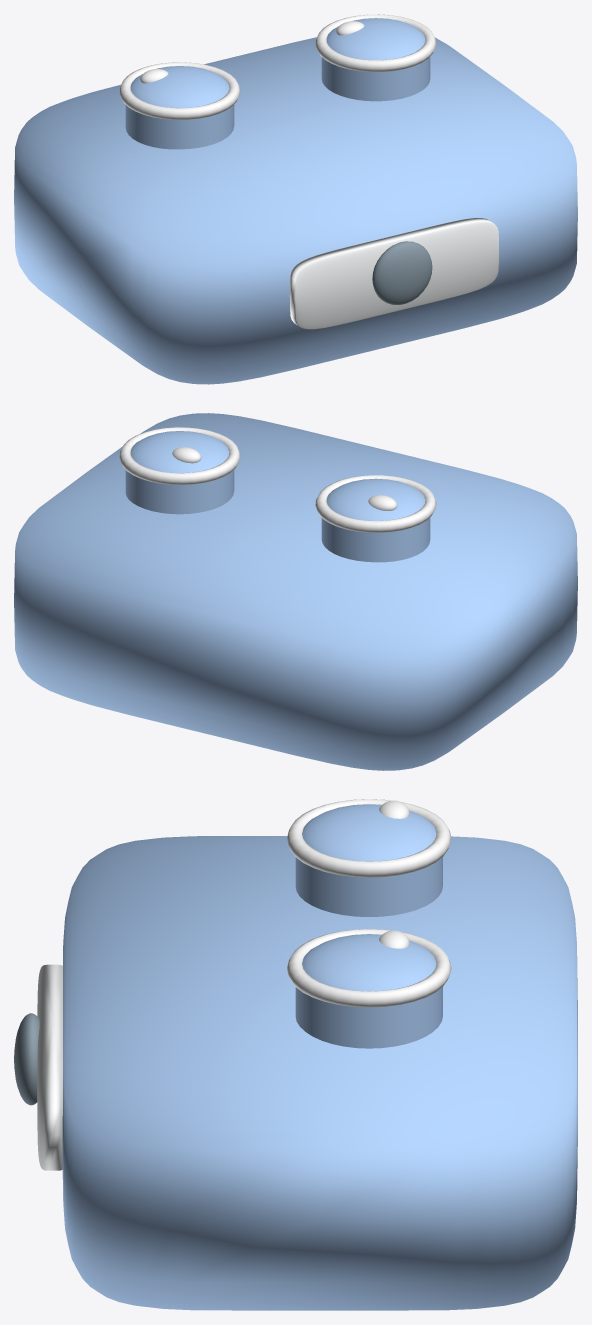
File: block-blue.glb
3 views of the same model, one above another, from view 1: azimuth 30°, elevation 25°; view 2: azimuth 150°, elevation 25°; view 3: azimuth 270°, elevation 25° (orthographic). The views are drawn at different scales.
Visible parts, largest first — view 1: single molded rounded body, front inset panel, top peg body (×2), rounded peg cap (×2), peg bevel ring (×2), front dot; view 2: single molded rounded body, top peg body (×2), rounded peg cap (×2), peg bevel ring (×2); view 3: single molded rounded body, top peg body (×2), rounded peg cap (×2), peg bevel ring (×2), front inset panel, front dot.
Part boxes in pixels (x1,y1,x2,y2): single molded rounded body: (14, 37, 577, 384); front inset panel: (289, 218, 498, 329); top peg body (×2): (125, 57, 430, 149); rounded peg cap (×2): (130, 18, 425, 107); peg bevel ring (×2): (119, 14, 436, 119); front dot: (372, 241, 432, 304); single molded rounded body: (14, 413, 577, 770); top peg body (×2): (125, 470, 430, 562); rounded peg cap (×2): (130, 431, 425, 520); peg bevel ring (×2): (119, 427, 436, 532); single molded rounded body: (62, 836, 577, 1310); top peg body (×2): (295, 857, 442, 1048); rounded peg cap (×2): (302, 804, 436, 991); peg bevel ring (×2): (287, 799, 451, 1007); front inset panel: (37, 964, 62, 1170); front dot: (14, 1013, 39, 1105).
Bounding box in the file's own units: 1.1 × 0.568 × 0.9176.
